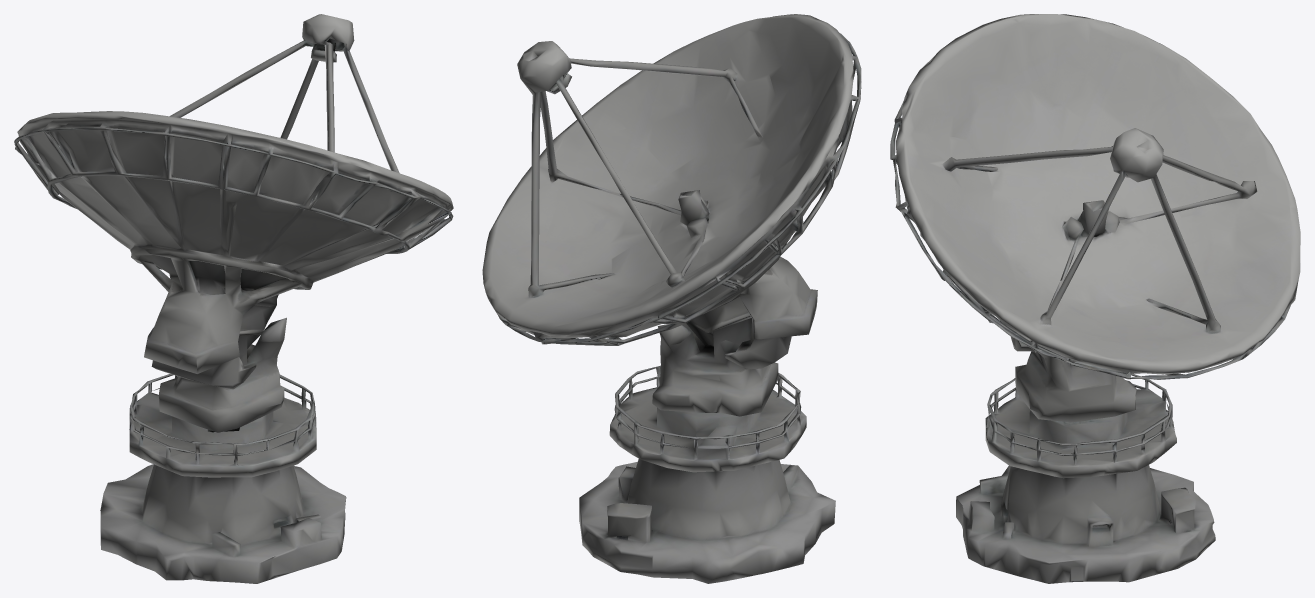
File: dish_tower.glb
The picture shows the model from 3 angles, left to right: view 1: azimuth 30°, elevation 25°; view 2: azimuth 150°, elevation 25°; view 3: azimuth 270°, elevation 25°; orthographic projection.
Parts seen in each view (by area): view 1: tripo_node_43630452-c835-4f59-8f0b-0ade4682778e; view 2: tripo_node_43630452-c835-4f59-8f0b-0ade4682778e; view 3: tripo_node_43630452-c835-4f59-8f0b-0ade4682778e.
Boxes of the visible parts, x1,y1,x2,y2 form: tripo_node_43630452-c835-4f59-8f0b-0ade4682778e: (14, 14, 453, 583); tripo_node_43630452-c835-4f59-8f0b-0ade4682778e: (482, 14, 861, 583); tripo_node_43630452-c835-4f59-8f0b-0ade4682778e: (890, 14, 1300, 583).
Size of the model in its own units: 31.6 by 40 by 31.9.
Materials: 1 (1 with a texture image).
